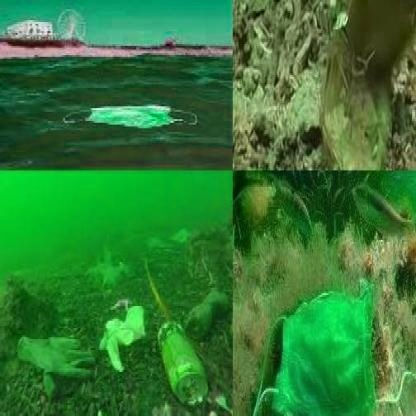Mask: (246, 280, 415, 414), (323, 0, 415, 169), (56, 95, 202, 148)
glove: (15, 324, 95, 402), (94, 299, 150, 379), (80, 235, 135, 302)
